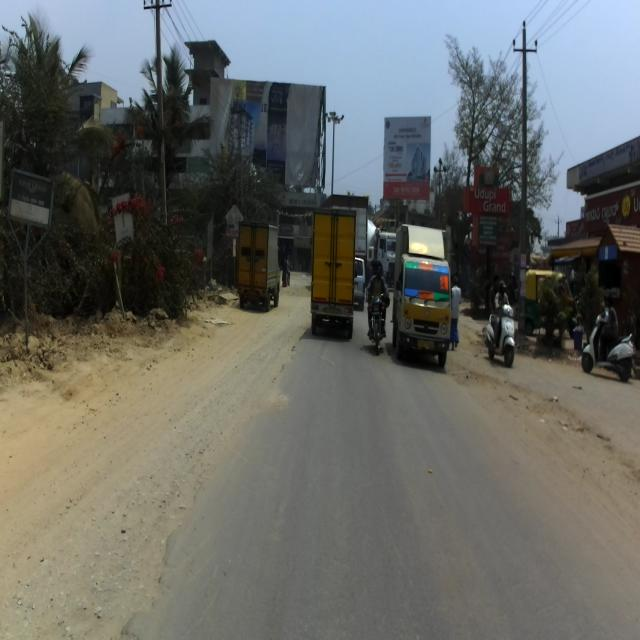electric pole ahead at: (138, 0, 181, 268)
truck ahead at: (395, 226, 454, 361), (310, 206, 356, 336), (236, 214, 278, 307)
